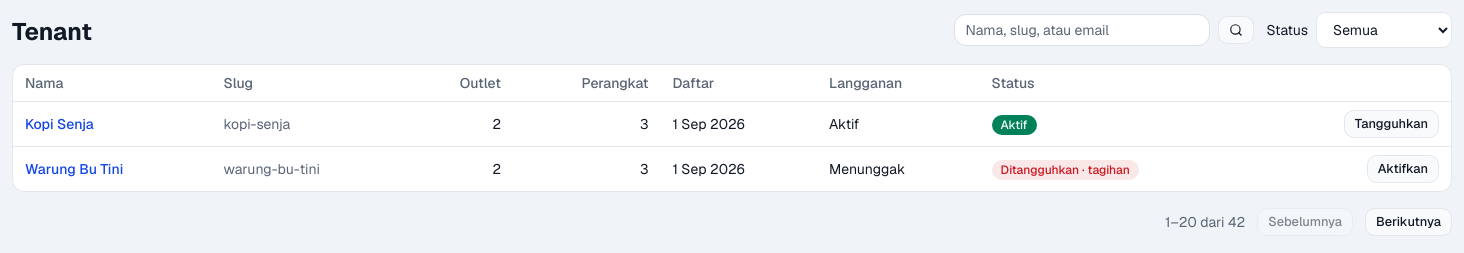
it: TenantsScreen › searches by name, slug or owner email
Step 1. Type "senja" into the search field named "Cari tenant" → (1082, 30), box left=954, top=14, right=1210, bottom=46
Then press Enter
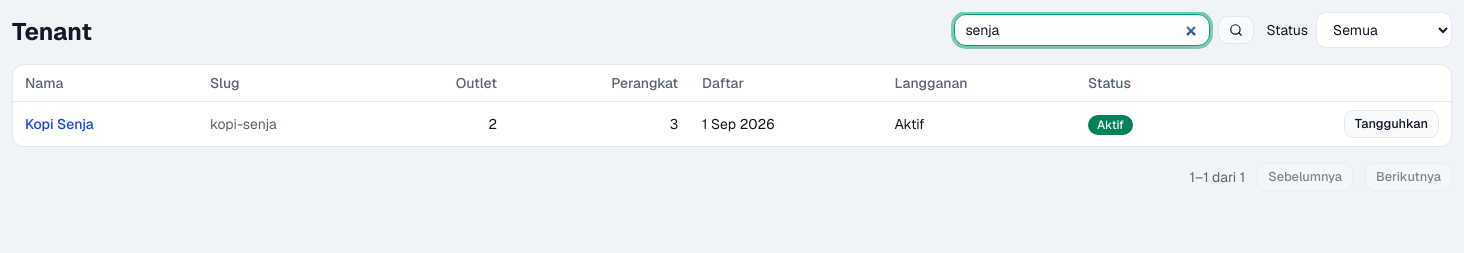
expect the text "1–1 dari 1" is shown: met, box left=1190, top=167, right=1245, bottom=187
